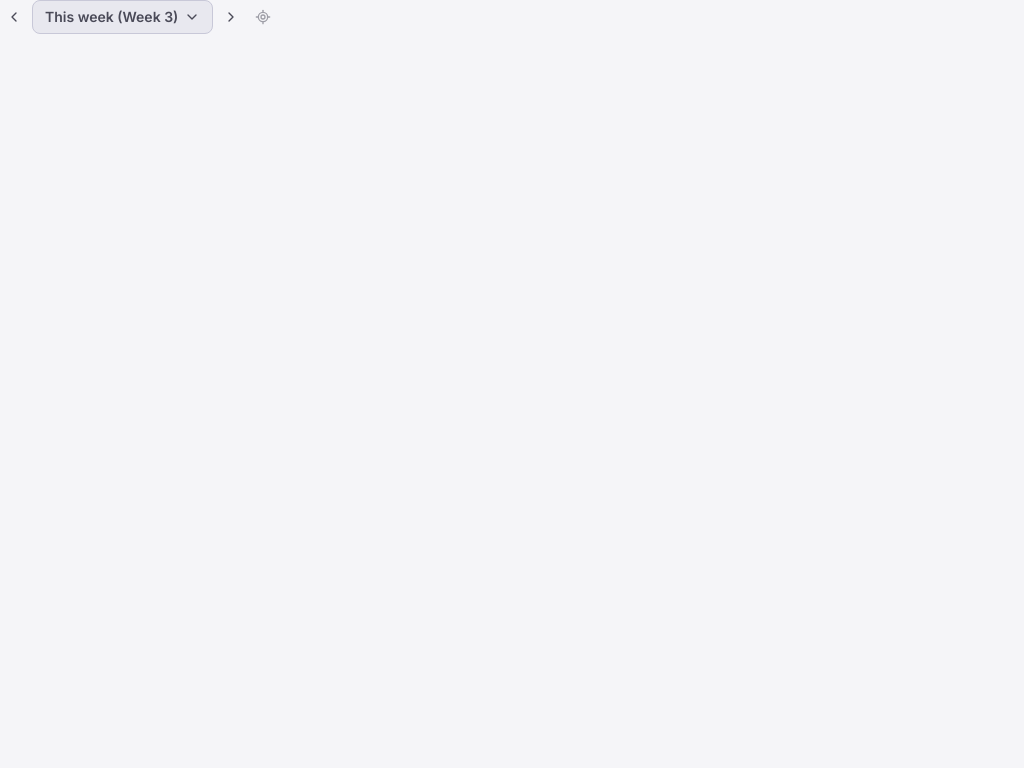
Test: WeekScopeControl › Start next week › does not mutate and closes the modal when the mutation rejects
Press Enter in the button "This week (Week 3)", box [32,0,213,34]
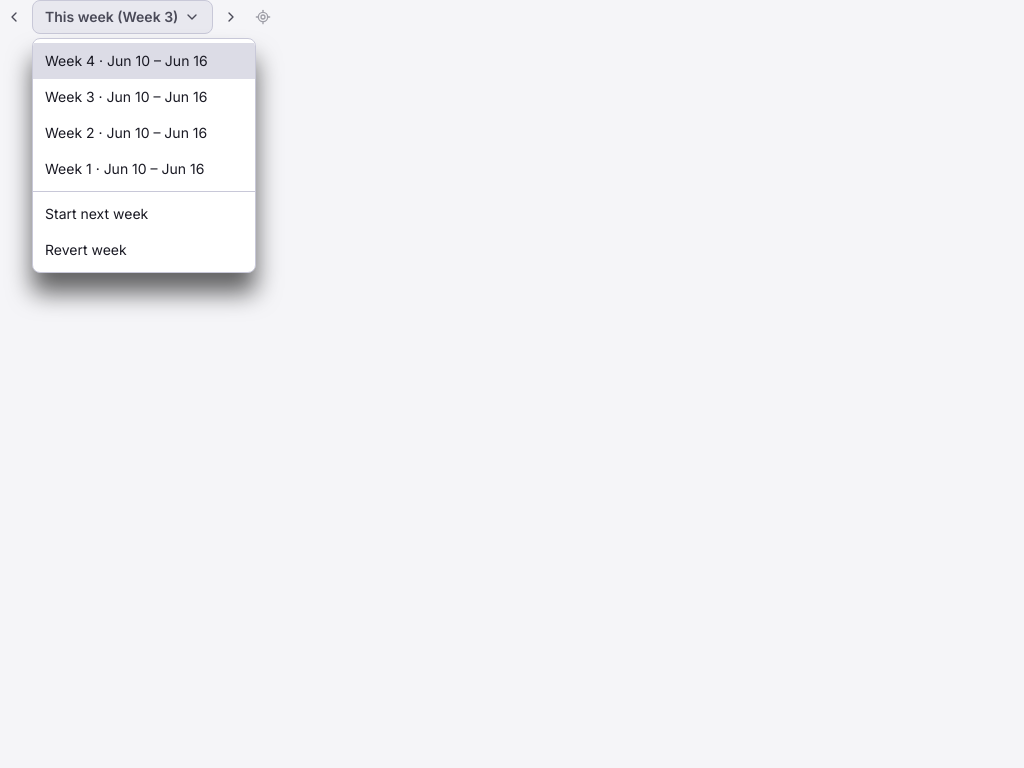
Click the menu item "Start next week": (97, 214) [45,205,148,222]
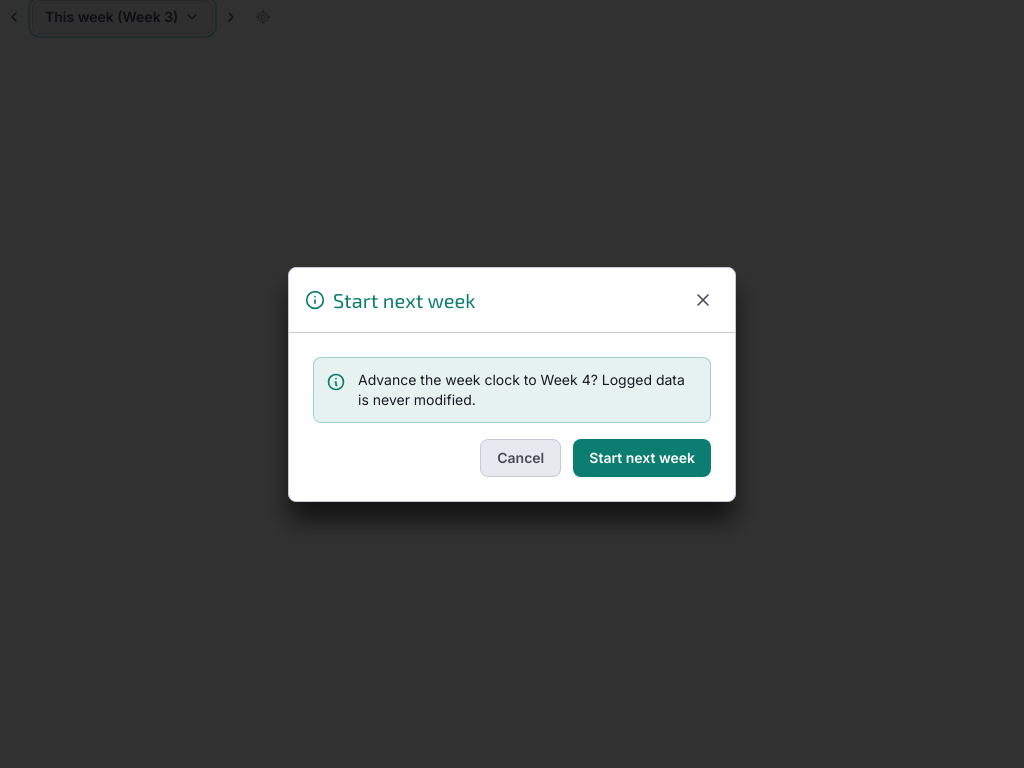
Click the button "Start next week": (642, 458) [573,438,711,476]
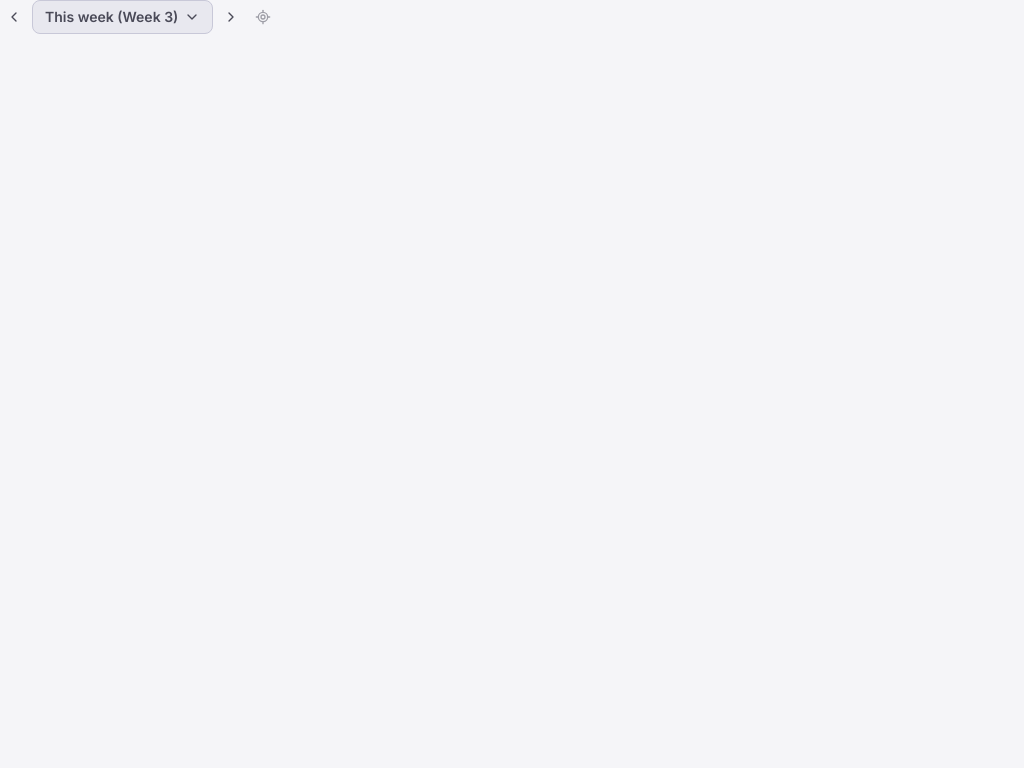
Check: the text "Advance the week clock" is gone
